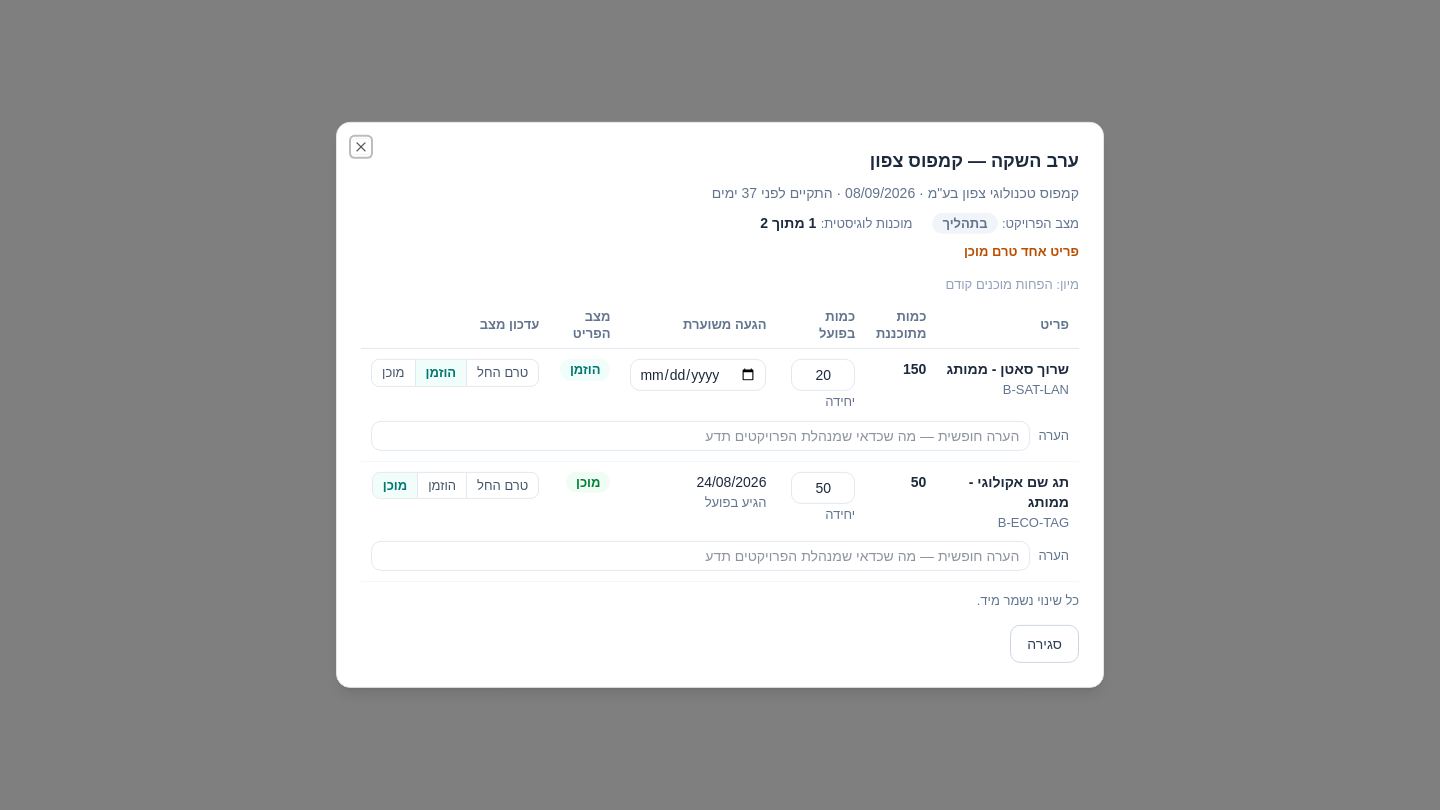
Test: ChecklistDialog — הבטחת "נשמר מיד" מול סגירת הדיאלוג › סימון הפריט האחרון כשחסרה דיילת — באנר-ענבר "לא עבר למוכן לביצוע", ולא הבאנר הירוק
Check: the row with test id "checklist-row-B-SAT-LAN-1" is shown, box [361,349,1079,420]
Click the button with test id "checklist-status-B-SAT-LAN-1-ready" at (393, 373), box [372,360,414,386]
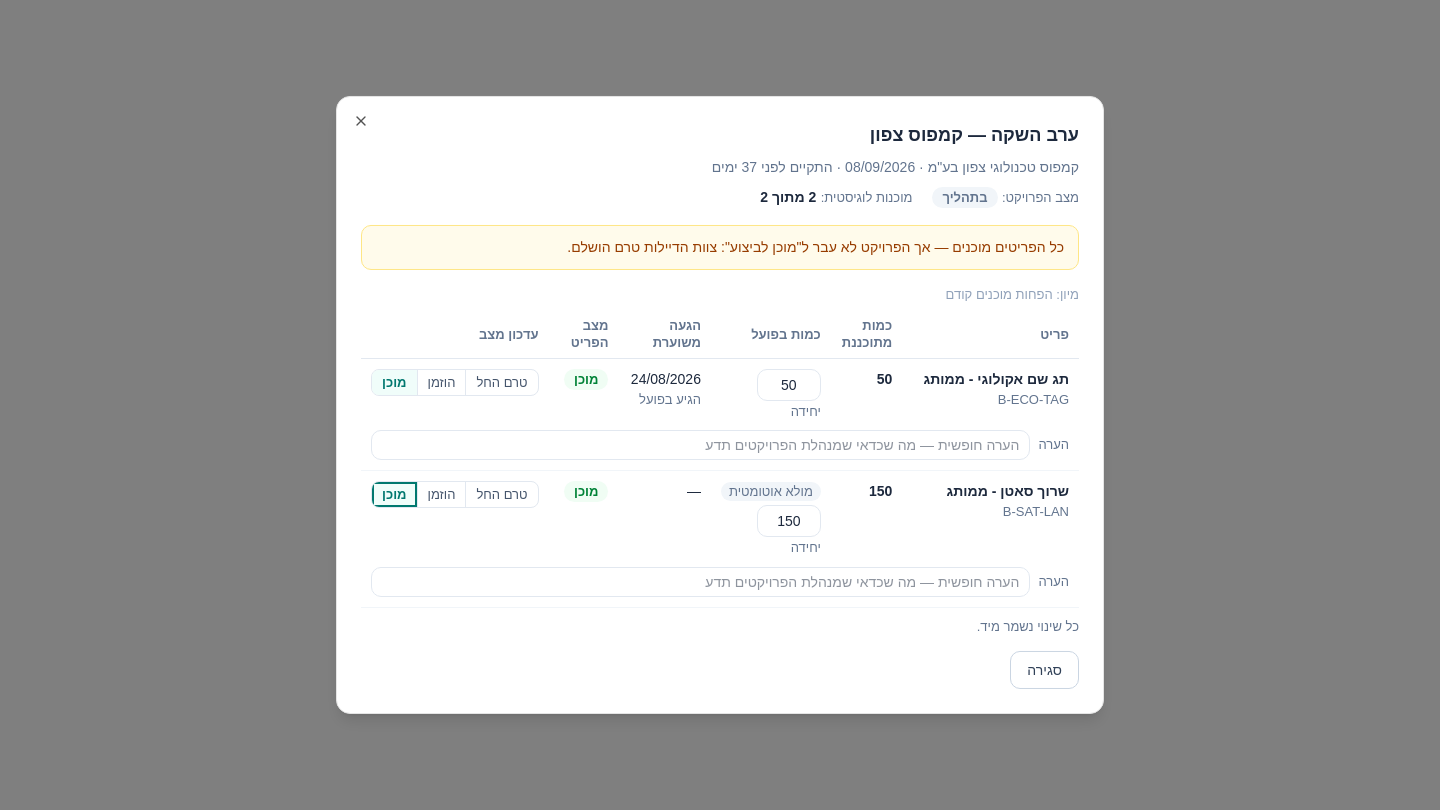
Check: the message with test id "checklist-banner-staffing-hold" reads "כל הפריטים מוכנים — אך הפרויקט לא עבר ל\"מוכן לביצוע\": צוות הדיילות טרם הושלם.", box [567,239,1064,255]
Type "הערה" into the field with test id "checklist-note-B-SAT-LAN-1" at (701, 582), box [371,567,1030,597]
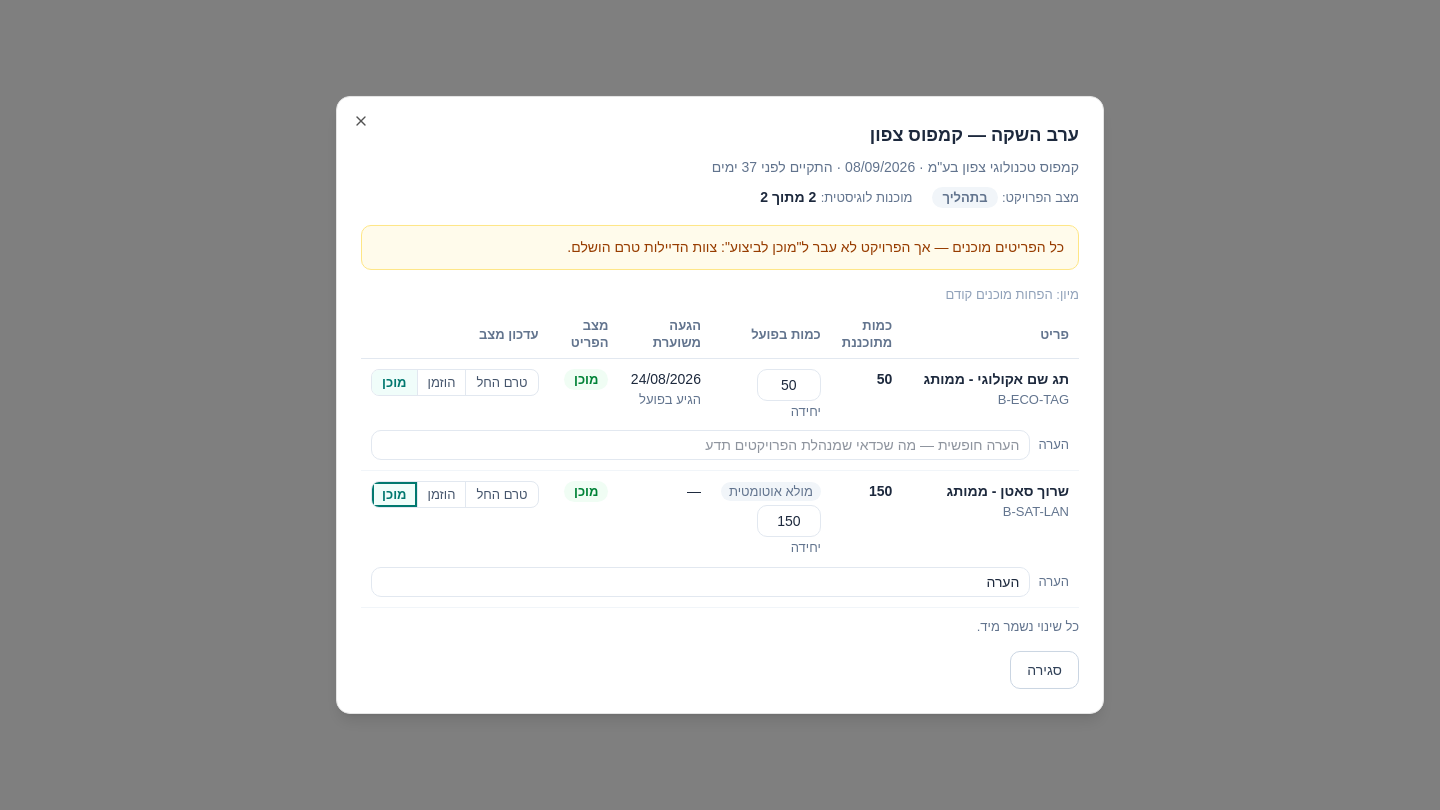
Leave the field with test id "checklist-note-B-SAT-LAN-1", box [371,567,1030,597]
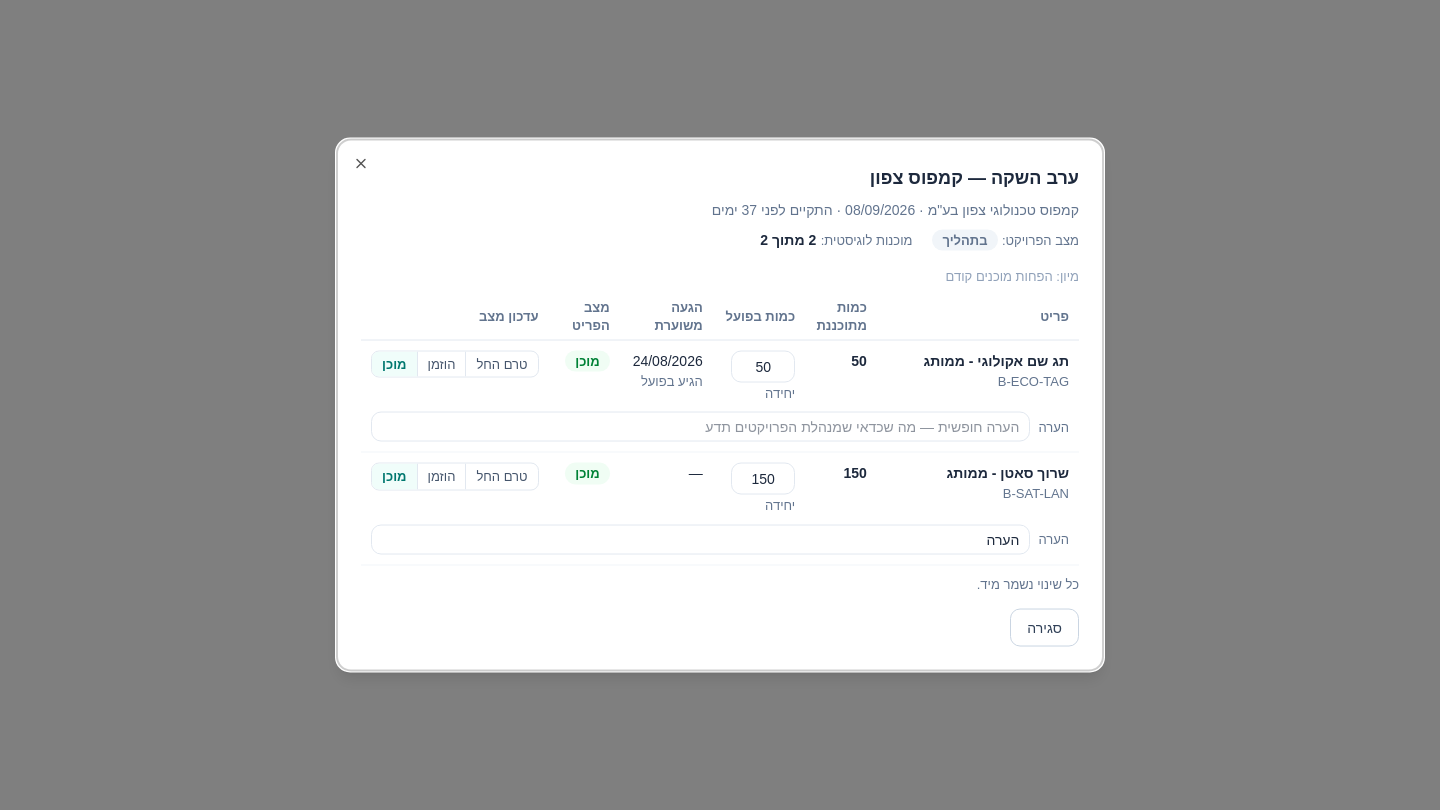
Check: the message with test id "checklist-banner-staffing-hold" is gone
